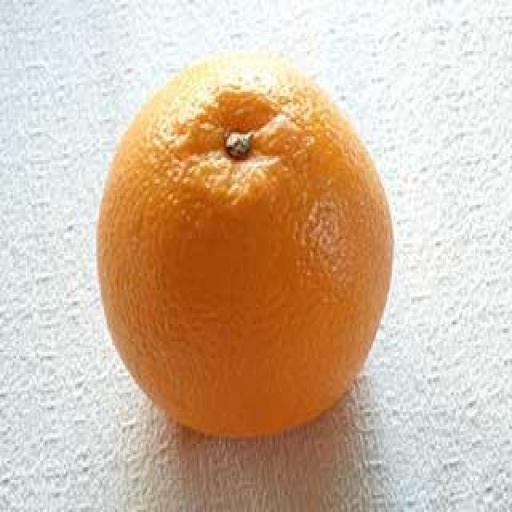fruit: (98, 55, 391, 435)
